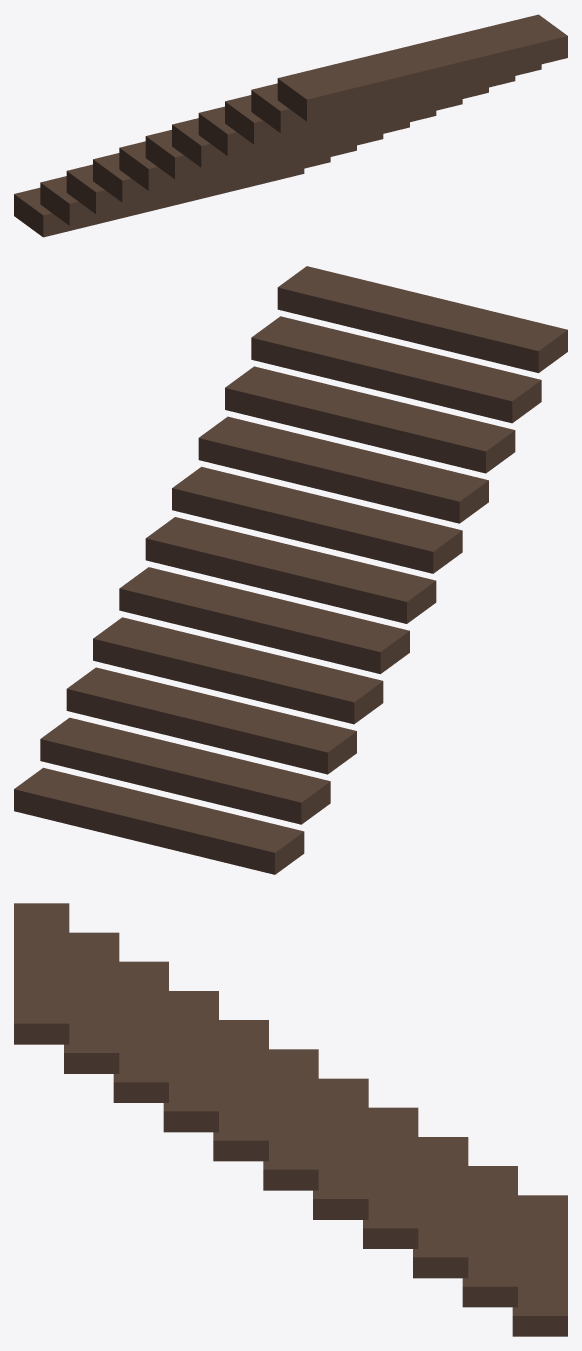
Rendered from merdivenler.fbx.
3 renders of one model, top to bottom at view 1: azimuth 30°, elevation 25°; view 2: azimuth 150°, elevation 25°; view 3: azimuth 270°, elevation 25°, orthographic. The views are drawn at different scales.
Visible parts, largest first — view 1: Merdiven1.002, Merdiven1.007, Merdiven1.010, Merdiven1.005, Merdiven1.008, Merdiven1.004, Merdiven1.011, Merdiven1.003, Merdiven1.006, Merdiven1.009, Merdiven1.012; view 2: Merdiven1.007, Merdiven1.002, Merdiven1.012, Merdiven1.003, Merdiven1.004, Merdiven1.005, Merdiven1.006, Merdiven1.008, Merdiven1.009, Merdiven1.010, Merdiven1.011; view 3: Merdiven1.002, Merdiven1.003, Merdiven1.008, Merdiven1.010, Merdiven1.009, Merdiven1.006, Merdiven1.007, Merdiven1.012, Merdiven1.005, Merdiven1.011, Merdiven1.004.
Boxes of the visible parts, x1,y1,x2,y2 form: Merdiven1.002: (277, 14, 567, 121); Merdiven1.007: (145, 111, 436, 179); Merdiven1.010: (66, 145, 356, 214); Merdiven1.005: (198, 87, 488, 156); Merdiven1.008: (119, 122, 409, 190); Merdiven1.004: (225, 76, 515, 144); Merdiven1.011: (40, 157, 330, 225); Merdiven1.003: (251, 64, 541, 133); Merdiven1.006: (172, 99, 462, 167); Merdiven1.009: (93, 134, 383, 202); Merdiven1.012: (14, 169, 304, 237); Merdiven1.007: (145, 517, 436, 623); Merdiven1.002: (277, 266, 567, 373); Merdiven1.012: (14, 767, 304, 874); Merdiven1.003: (251, 316, 541, 423); Merdiven1.004: (225, 366, 515, 473); Merdiven1.005: (198, 416, 488, 523); Merdiven1.006: (172, 466, 462, 573); Merdiven1.008: (119, 567, 409, 674); Merdiven1.009: (93, 617, 383, 724); Merdiven1.010: (66, 667, 356, 774); Merdiven1.011: (40, 717, 330, 824); Merdiven1.002: (14, 903, 69, 1044); Merdiven1.003: (64, 932, 119, 1073); Merdiven1.008: (313, 1078, 368, 1219); Merdiven1.010: (413, 1137, 468, 1278); Merdiven1.009: (363, 1107, 418, 1248); Merdiven1.006: (213, 1020, 268, 1161); Merdiven1.007: (263, 1049, 318, 1190); Merdiven1.012: (512, 1195, 567, 1336); Merdiven1.005: (163, 991, 218, 1132); Merdiven1.011: (462, 1166, 517, 1307); Merdiven1.004: (113, 961, 168, 1102).
Size of the model in its own units: 231 by 279 by 448.
